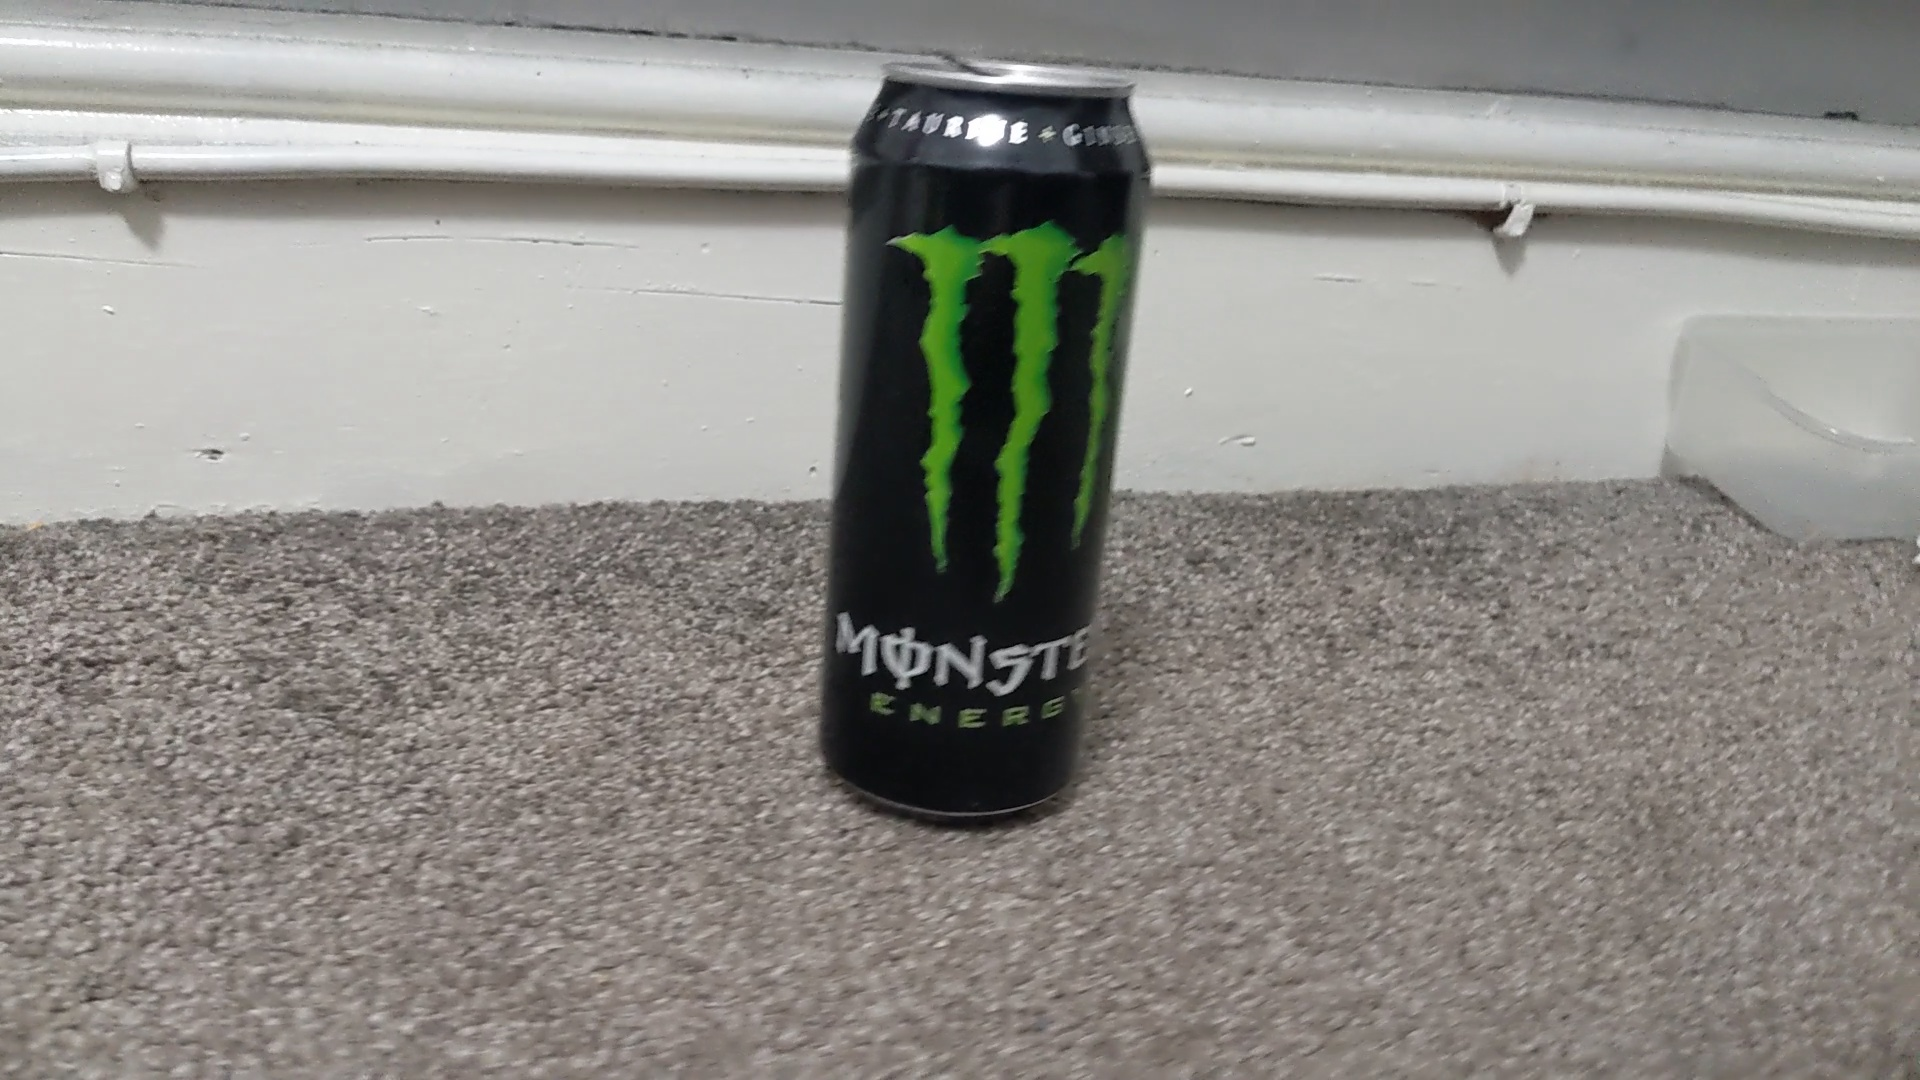monster-original: (819, 65, 1156, 818)
